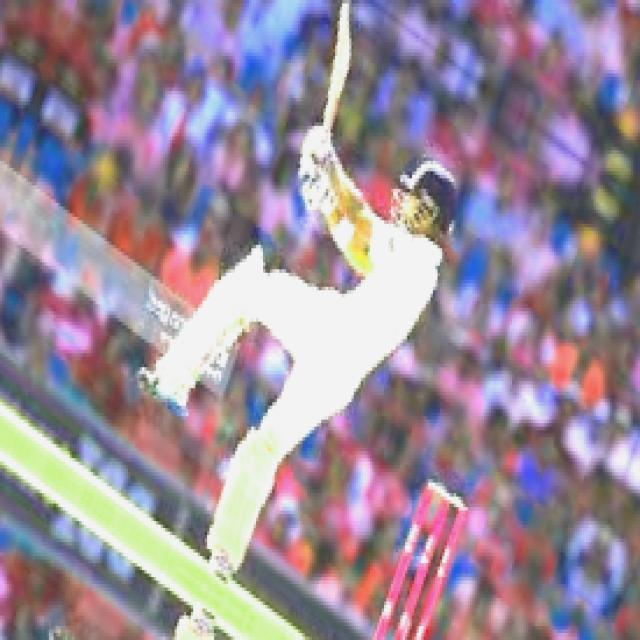toe: (325, 0, 357, 39)
